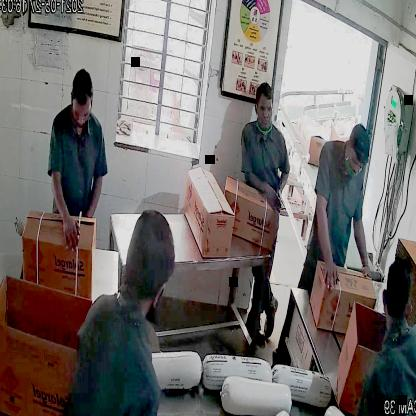no_goggles: (67, 101, 96, 124), (254, 98, 276, 119)
